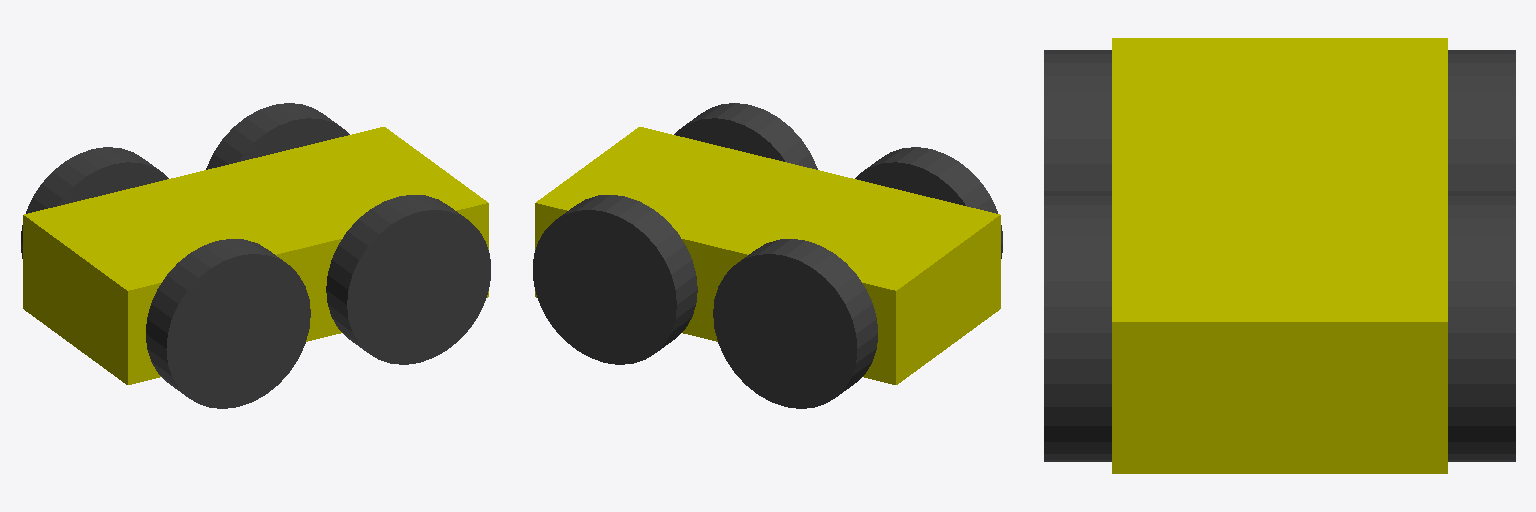
URDF robot description (seekurjr):
<?xml version="1.0" ?>
<!-- =================================================================================== -->
<!-- |    This document was autogenerated by xacro from src/seekurjr_gazebo/urdf/simple/seekurjr.urdf.xacro | -->
<!-- |    EDITING THIS FILE BY HAND IS NOT RECOMMENDED                                 | -->
<!-- =================================================================================== -->
<robot name="seekurjr" xmlns:xacro="http://www.ros.org/wiki/xacro">
  <!-- Included URDF/XACRO Files -->
  <material name="Black">
    <color rgba="0.0 0.0 0.0 1.0"/>
  </material>
  <material name="Blue">
    <color rgba="0.0 0.0 0.8 1.0"/>
  </material>
  <material name="Green">
    <color rgba="0.0 0.8 0.0 1.0"/>
  </material>
  <material name="Gray">
    <color rgba="0.7 0.7 0.7 1.0"/>
  </material>
  <material name="DarkGray">
    <color rgba="0.3 0.3 0.3 1.0"/>
  </material>
  <material name="Red">
    <color rgba="0.8 0.0 0.0 1.0"/>
  </material>
  <material name="White">
    <color rgba="1.0 1.0 1.0 1.0"/>
  </material>
  <material name="Yellow">
    <color rgba="0.8 0.8 0.0 1.0"/>
  </material>
  <!-- PROPERTY LIST -->
  <!--All units in m-kg-s-radians unit system -->
  <!-- Main Body-base -->
  <!-- in kg-->
  <!-- BASE-FOOTPRINT -->
  <!-- base_footprint is a fictitious link(frame) that is on the ground right below base_link origin -->
  <link name="base_footprint">
    <visual>
      <origin rpy="0 0 0" xyz="0 0 0"/>
      <geometry>
        <box size="0.001 0.001 0.001"/>
      </geometry>
    </visual>
  </link>
  <joint name="base_footprint_joint" type="fixed">
    <origin rpy="0 0 0" xyz="0 0 0.2"/>
    <parent link="base_footprint"/>
    <child link="base_link"/>
  </joint>
  <!-- BASE-LINK -->
  <!--Actual body/chassis of the robot-->
  <link name="base_link">
    <visual>
      <origin rpy="0 0 0" xyz="0 0 0"/>
      <geometry>
        <box size="1 0.5 0.25"/>
      </geometry>
      <material name="Yellow"/>
    </visual>
  </link>
  <!-- WHEELs -->
  <link name="front_right_wheel">
    <visual>
      <origin rpy="-1.57079632679 0 0" xyz="0 0 0"/>
      <geometry>
        <cylinder length="0.1" radius="0.2"/>
      </geometry>
      <material name="DarkGray"/>
    </visual>
  </link>
  <joint name="front_right_wheel_joint" type="continuous">
    <parent link="base_link"/>
    <child link="front_right_wheel"/>
    <origin rpy="0 0 0" xyz="0.25 -0.3 0.0"/>
    <axis rpy="0 0 0" xyz="0 1 0"/>
    <limit effort="100" velocity="100"/>
    <joint_properties damping="0.0" friction="0.0"/>
  </joint>
  <link name="front_left_wheel">
    <visual>
      <origin rpy="-1.57079632679 0 0" xyz="0 0 0"/>
      <geometry>
        <cylinder length="0.1" radius="0.2"/>
      </geometry>
      <material name="DarkGray"/>
    </visual>
  </link>
  <joint name="front_left_wheel_joint" type="continuous">
    <parent link="base_link"/>
    <child link="front_left_wheel"/>
    <origin rpy="0 0 0" xyz="0.25 0.3 0.0"/>
    <axis rpy="0 0 0" xyz="0 1 0"/>
    <limit effort="100" velocity="100"/>
    <joint_properties damping="0.0" friction="0.0"/>
  </joint>
  <link name="back_right_wheel">
    <visual>
      <origin rpy="-1.57079632679 0 0" xyz="0 0 0"/>
      <geometry>
        <cylinder length="0.1" radius="0.2"/>
      </geometry>
      <material name="DarkGray"/>
    </visual>
  </link>
  <joint name="back_right_wheel_joint" type="continuous">
    <parent link="base_link"/>
    <child link="back_right_wheel"/>
    <origin rpy="0 0 0" xyz="-0.25 -0.3 0.0"/>
    <axis rpy="0 0 0" xyz="0 1 0"/>
    <limit effort="100" velocity="100"/>
    <joint_properties damping="0.0" friction="0.0"/>
  </joint>
  <link name="back_left_wheel">
    <visual>
      <origin rpy="-1.57079632679 0 0" xyz="0 0 0"/>
      <geometry>
        <cylinder length="0.1" radius="0.2"/>
      </geometry>
      <material name="DarkGray"/>
    </visual>
  </link>
  <joint name="back_left_wheel_joint" type="continuous">
    <parent link="base_link"/>
    <child link="back_left_wheel"/>
    <origin rpy="0 0 0" xyz="-0.25 0.3 0.0"/>
    <axis rpy="0 0 0" xyz="0 1 0"/>
    <limit effort="100" velocity="100"/>
    <joint_properties damping="0.0" friction="0.0"/>
  </joint>
</robot>

--- Render facts (derived) ---
The picture shows the robot from 3 angles, left to right: view 1: azimuth 30°, elevation 25°; view 2: azimuth 150°, elevation 25°; view 3: azimuth 270°, elevation 25°; orthographic projection.
Model seekurjr with 6 links and 5 joints (4 continuous, 1 fixed), rooted at base_footprint, posed all joints at 0.
Links seen in each view (by area): view 1: base_link, back_right_wheel, front_right_wheel, back_left_wheel, front_left_wheel; view 2: base_link, back_left_wheel, front_left_wheel, back_right_wheel, front_right_wheel; view 3: base_link, front_right_wheel, front_left_wheel, back_right_wheel, back_left_wheel.
Boxes of the visible links, left/top/right/bottom form: base_link: left=23, top=127, right=488, bottom=384; back_right_wheel: left=146, top=239, right=310, bottom=408; front_right_wheel: left=326, top=195, right=490, bottom=364; back_left_wheel: left=21, top=147, right=168, bottom=258; front_left_wheel: left=206, top=103, right=349, bottom=169; base_link: left=535, top=127, right=1000, bottom=384; back_left_wheel: left=713, top=239, right=877, bottom=408; front_left_wheel: left=533, top=195, right=697, bottom=364; back_right_wheel: left=855, top=147, right=1002, bottom=258; front_right_wheel: left=674, top=103, right=817, bottom=169; base_link: left=1112, top=38, right=1447, bottom=473; front_right_wheel: left=1044, top=193, right=1111, bottom=461; front_left_wheel: left=1448, top=193, right=1515, bottom=461; back_right_wheel: left=1044, top=50, right=1111, bottom=192; back_left_wheel: left=1448, top=50, right=1515, bottom=192.
Size in the robot's own frame: 1 by 0.7 by 0.4005 metres.
Geometry: primitives only (box / cylinder / sphere), no mesh files.